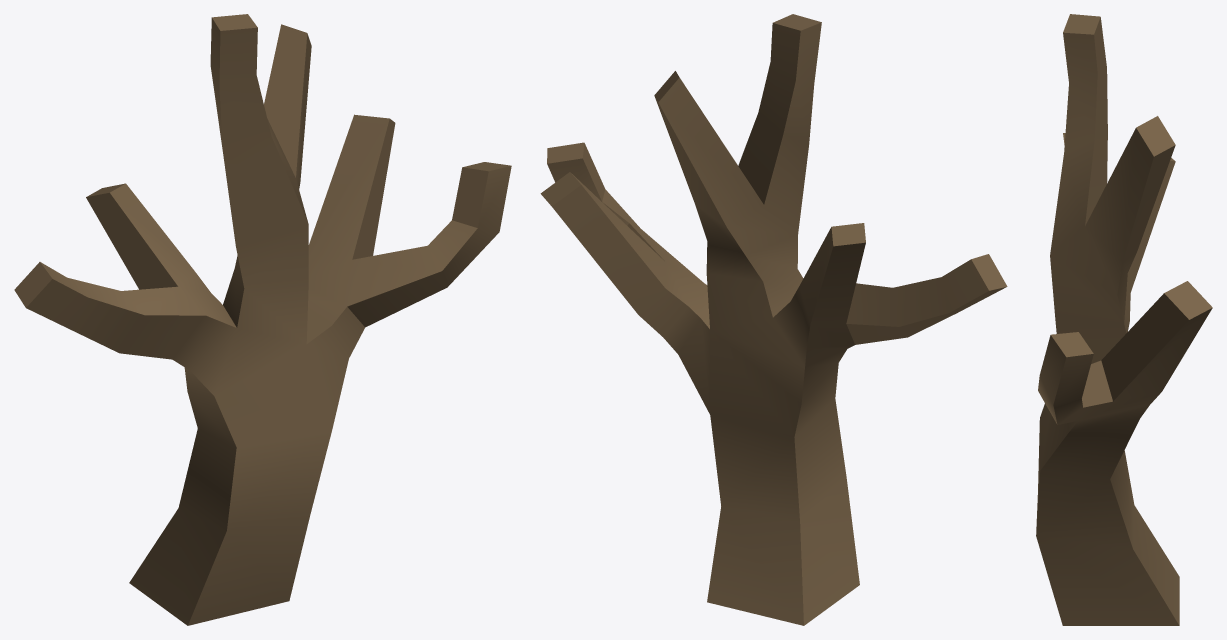
File: DeadTree_1.glb
3 renders of one model, left to right at view 1: azimuth 30°, elevation 25°; view 2: azimuth 150°, elevation 25°; view 3: azimuth 270°, elevation 25°, orthographic. The views are drawn at different scales.
Visible parts, largest first — view 1: DeadTree_1; view 2: DeadTree_1; view 3: DeadTree_1.
Boxes of the visible parts, box(x1,y1,x2,y2) form: DeadTree_1: box(14, 14, 511, 625); DeadTree_1: box(540, 14, 1007, 625); DeadTree_1: box(1036, 14, 1212, 625).
Size of the model in its own units: 4.33 by 5 by 1.38.
Materials: 1 (1 with a texture image).
